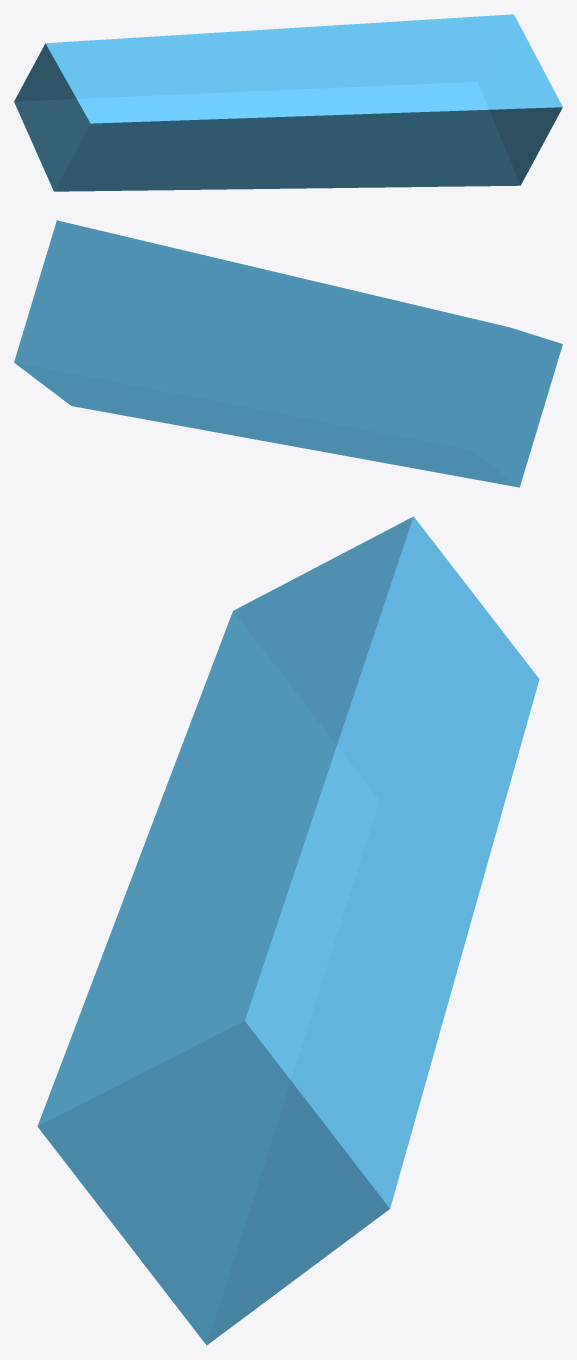
File: Event_421127236_HErechit_18.fbx
3 renders of one model, top to bottom at view 1: azimuth 30°, elevation 25°; view 2: azimuth 150°, elevation 25°; view 3: azimuth 270°, elevation 25°, orthographic. The views are drawn at different scales.
Visible parts, largest first — view 1: Model; view 2: Model; view 3: Model.
Part boxes in pixels (bbox=[...]): Model: bbox=[14, 14, 562, 191]; Model: bbox=[14, 220, 562, 487]; Model: bbox=[37, 516, 539, 1345].
Bounding box in the file's own units: 1.58 × 0.7347 × 0.8037.
